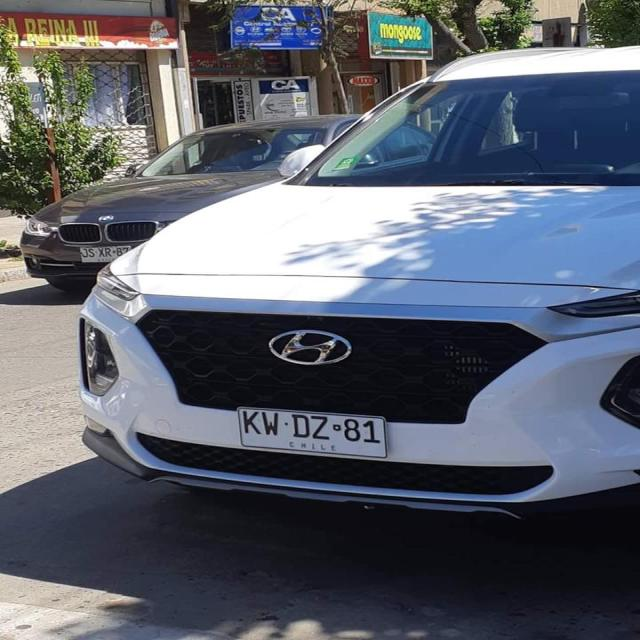patente: (234, 405, 388, 459)
